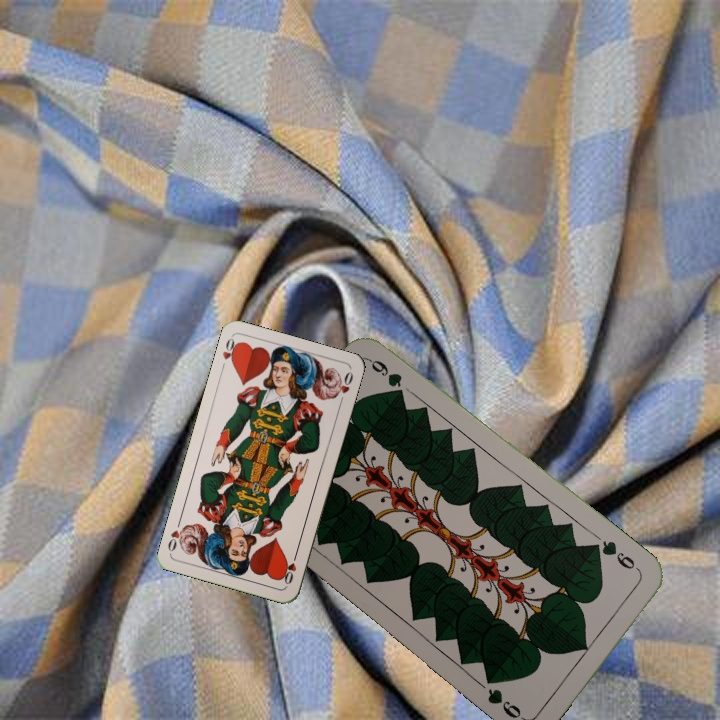G9: (591, 536, 644, 576)
HO: (279, 548, 300, 587), (218, 334, 242, 367)
